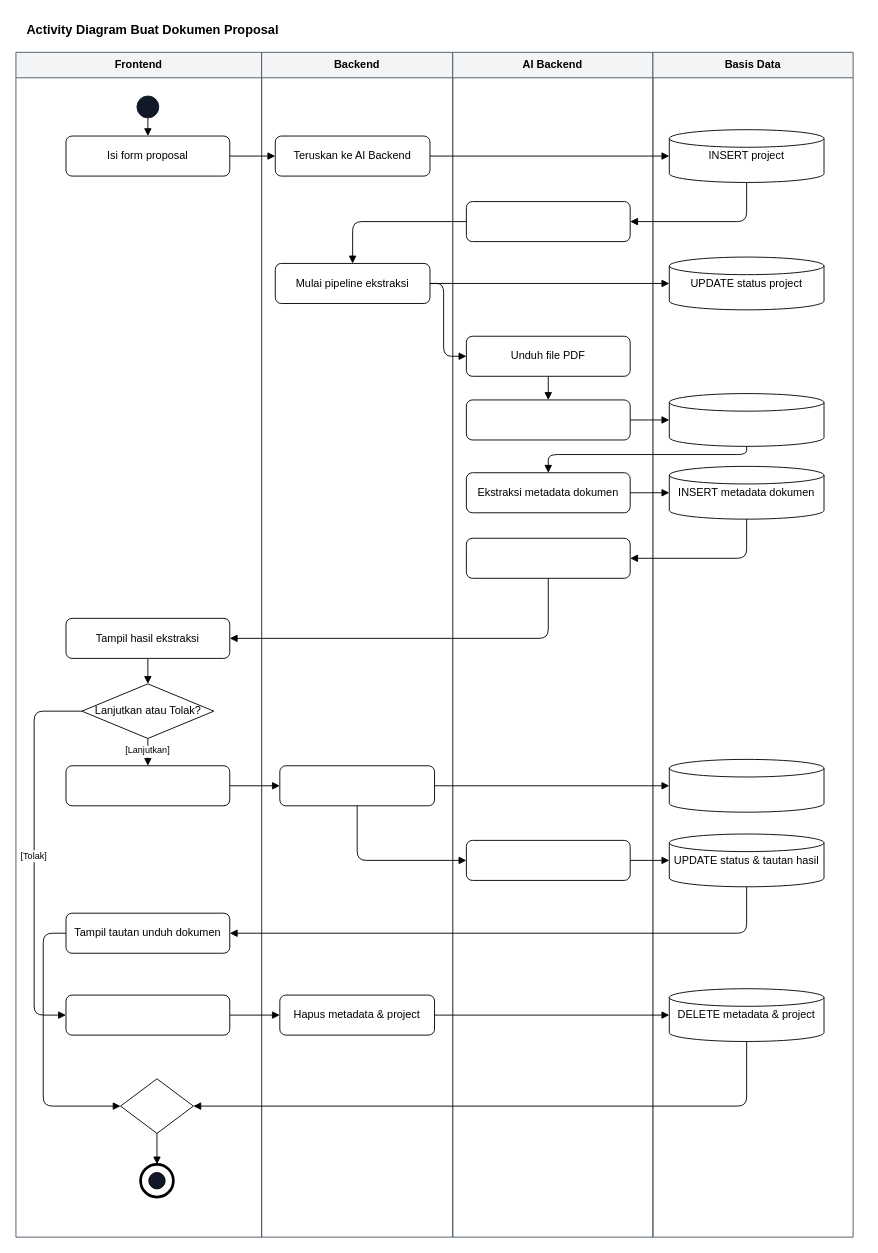
Image size: 878x1253. Some labels were removed from this diagram. Here are the shapes that lost their labels. From the top down, the centre of each, then its label:
At point (547, 221): "Unggah file ke Storage".
At point (547, 419): "Pecah & indeks dokumen".
At point (746, 419): "INSERT potongan dokumen".
At point (547, 557): "Generate placeholder dari metadata".
At point (147, 785): "Tinjau & ubah nilai ekstraksi".
At point (357, 785): "Simpan metadata & buat dokumen".
At point (746, 785): "UPDATE metadata".
At point (547, 859): "Buat & unggah dokumen".
At point (147, 1014): "Reset form".
